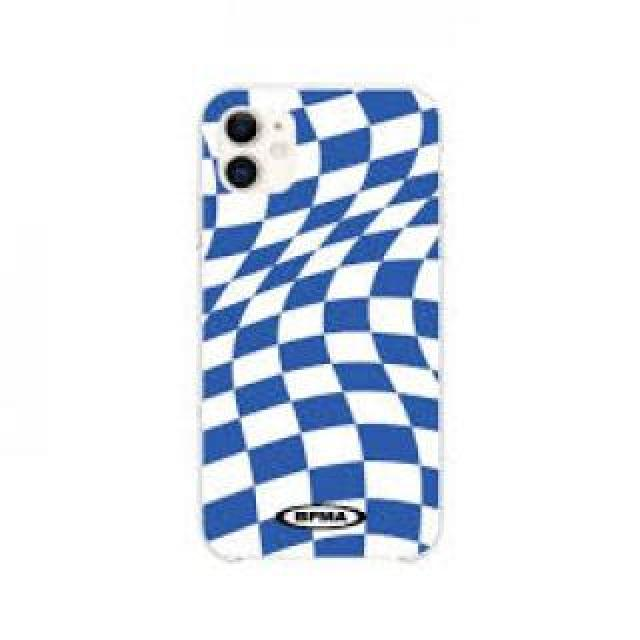smart phone: (180, 53, 460, 602)
